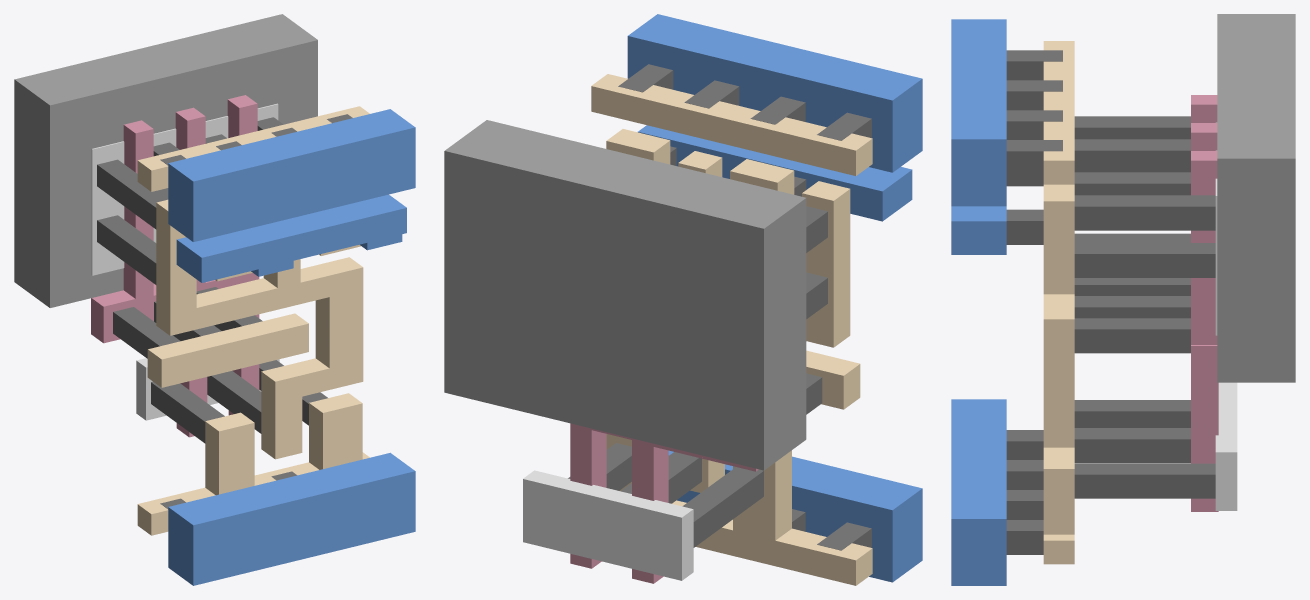
File: sky130_fd_sc_hd__lpflow_clkinvkapwr_2.gds.gltf
3 renders of one model, left to right at view 1: azimuth 30°, elevation 25°; view 2: azimuth 150°, elevation 25°; view 3: azimuth 270°, elevation 25°, orthographic. The views are drawn at different scales.
Parts seen in each view (by area): view 1: sky130_fd_sc_hd__lpflow_clkinvkapwr_2_met1, sky130_fd_sc_hd__lpflow_clkinvkapwr_2_nwell, sky130_fd_sc_hd__lpflow_clkinvkapwr_2_li1, sky130_fd_sc_hd__lpflow_clkinvkapwr_2_licon, sky130_fd_sc_hd__lpflow_clkinvkapwr_2_poly, sky130_fd_sc_hd__lpflow_clkinvkapwr_2_diff, sky130_fd_sc_hd__lpflow_clkinvkapwr_2_mcon; view 2: sky130_fd_sc_hd__lpflow_clkinvkapwr_2_nwell, sky130_fd_sc_hd__lpflow_clkinvkapwr_2_met1, sky130_fd_sc_hd__lpflow_clkinvkapwr_2_li1, sky130_fd_sc_hd__lpflow_clkinvkapwr_2_diff, sky130_fd_sc_hd__lpflow_clkinvkapwr_2_licon, sky130_fd_sc_hd__lpflow_clkinvkapwr_2_mcon, sky130_fd_sc_hd__lpflow_clkinvkapwr_2_poly; view 3: sky130_fd_sc_hd__lpflow_clkinvkapwr_2_licon, sky130_fd_sc_hd__lpflow_clkinvkapwr_2_nwell, sky130_fd_sc_hd__lpflow_clkinvkapwr_2_met1, sky130_fd_sc_hd__lpflow_clkinvkapwr_2_li1, sky130_fd_sc_hd__lpflow_clkinvkapwr_2_mcon, sky130_fd_sc_hd__lpflow_clkinvkapwr_2_poly, sky130_fd_sc_hd__lpflow_clkinvkapwr_2_diff.
Part boxes in pixels (x1=…): sky130_fd_sc_hd__lpflow_clkinvkapwr_2_met1: x1=168, y1=109, x2=415, y2=585; sky130_fd_sc_hd__lpflow_clkinvkapwr_2_nwell: x1=14, y1=14, x2=317, y2=307; sky130_fd_sc_hd__lpflow_clkinvkapwr_2_li1: x1=137, y1=106, x2=369, y2=535; sky130_fd_sc_hd__lpflow_clkinvkapwr_2_licon: x1=97, y1=117, x2=327, y2=443; sky130_fd_sc_hd__lpflow_clkinvkapwr_2_poly: x1=91, y1=95, x2=259, y2=437; sky130_fd_sc_hd__lpflow_clkinvkapwr_2_diff: x1=91, y1=103, x2=279, y2=420; sky130_fd_sc_hd__lpflow_clkinvkapwr_2_mcon: x1=160, y1=114, x2=352, y2=509; sky130_fd_sc_hd__lpflow_clkinvkapwr_2_nwell: x1=444, y1=120, x2=806, y2=470; sky130_fd_sc_hd__lpflow_clkinvkapwr_2_met1: x1=627, y1=14, x2=922, y2=582; sky130_fd_sc_hd__lpflow_clkinvkapwr_2_li1: x1=591, y1=74, x2=872, y2=585; sky130_fd_sc_hd__lpflow_clkinvkapwr_2_diff: x1=523, y1=470, x2=693, y2=580; sky130_fd_sc_hd__lpflow_clkinvkapwr_2_licon: x1=568, y1=206, x2=827, y2=547; sky130_fd_sc_hd__lpflow_clkinvkapwr_2_mcon: x1=618, y1=64, x2=871, y2=550; sky130_fd_sc_hd__lpflow_clkinvkapwr_2_poly: x1=570, y1=423, x2=758, y2=583; sky130_fd_sc_hd__lpflow_clkinvkapwr_2_licon: x1=1074, y1=116, x2=1215, y2=498; sky130_fd_sc_hd__lpflow_clkinvkapwr_2_nwell: x1=1217, y1=14, x2=1295, y2=382; sky130_fd_sc_hd__lpflow_clkinvkapwr_2_met1: x1=951, y1=19, x2=1006, y2=585; sky130_fd_sc_hd__lpflow_clkinvkapwr_2_li1: x1=1043, y1=41, x2=1074, y2=564; sky130_fd_sc_hd__lpflow_clkinvkapwr_2_mcon: x1=1006, y1=50, x2=1062, y2=554; sky130_fd_sc_hd__lpflow_clkinvkapwr_2_poly: x1=1191, y1=95, x2=1218, y2=511; sky130_fd_sc_hd__lpflow_clkinvkapwr_2_diff: x1=1215, y1=122, x2=1237, y2=510.
Bounding box in the file's own units: 2.22 × 3.2 × 2.24.
